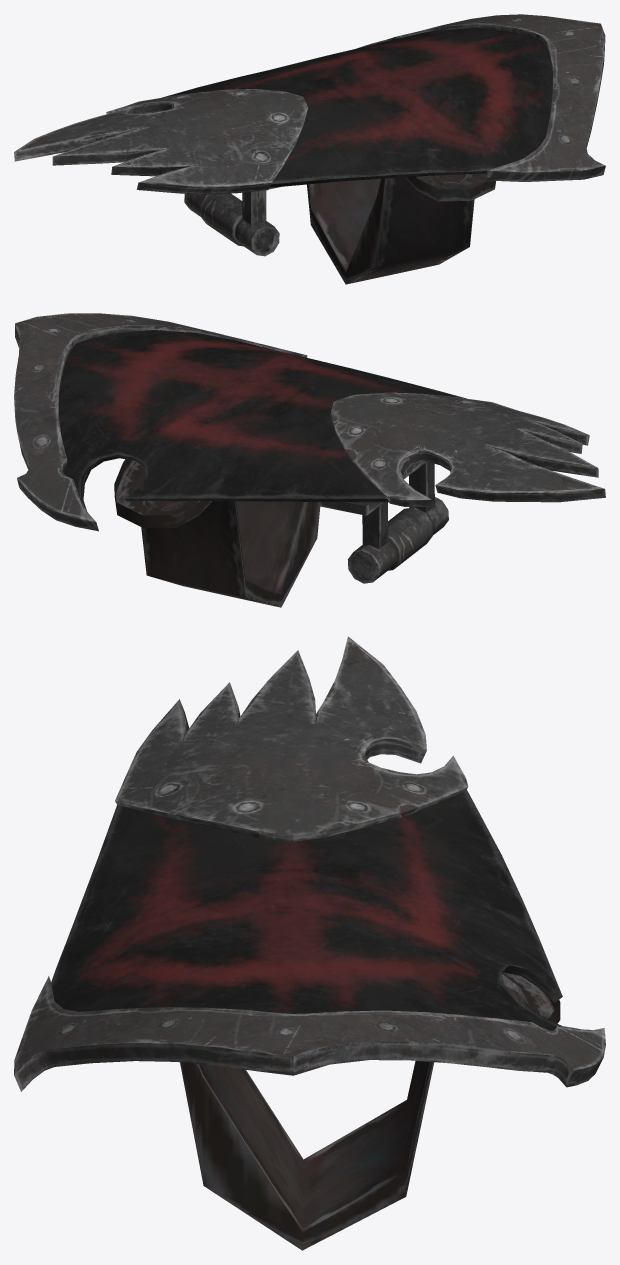
File: sm_mordor_shield_small_a.fbx
3 views of the same model, one above another, from view 1: azimuth 30°, elevation 25°; view 2: azimuth 150°, elevation 25°; view 3: azimuth 270°, elevation 25° (orthographic). The views are drawn at different scales.
Visible parts, largest first — view 1: sm_mordor_shield_small_a.1, sm_mordor_shield_small_a.0; view 2: sm_mordor_shield_small_a.1, sm_mordor_shield_small_a.0; view 3: sm_mordor_shield_small_a.1, sm_mordor_shield_small_a.0.
Boxes of the visible parts, x1,y1,x2,y2 form: sm_mordor_shield_small_a.1: (14, 14, 605, 194); sm_mordor_shield_small_a.0: (184, 173, 495, 284); sm_mordor_shield_small_a.1: (14, 313, 605, 531); sm_mordor_shield_small_a.0: (114, 459, 448, 607); sm_mordor_shield_small_a.1: (14, 636, 605, 1091); sm_mordor_shield_small_a.0: (180, 972, 560, 1250).
Size of the model in its own units: 0.8536 by 0.5029 by 0.2938.
Materials: 2 (2 with a texture image).
